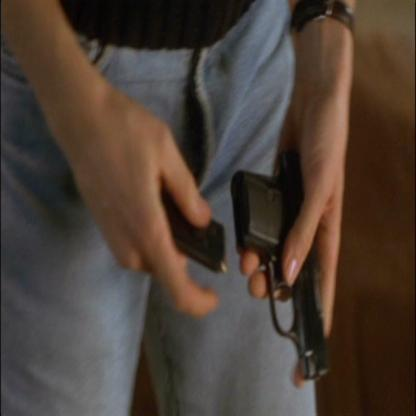gun: (226, 126, 336, 382)
